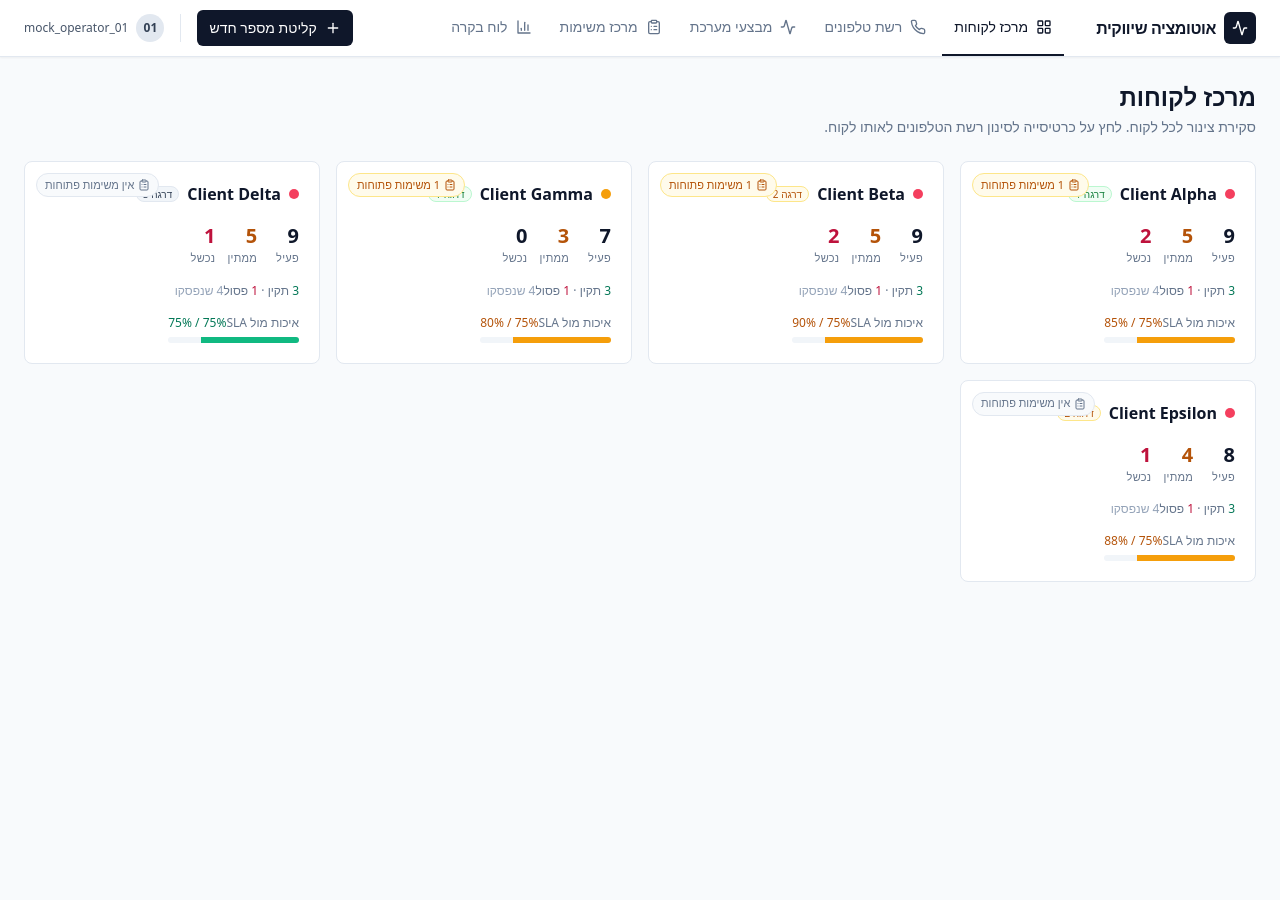
Test: Phase E1-D — file-upload tab › renders dropzone + template-download button
Click the button "קליטת מספר חדש" at (275, 28), box [197,10,353,46]
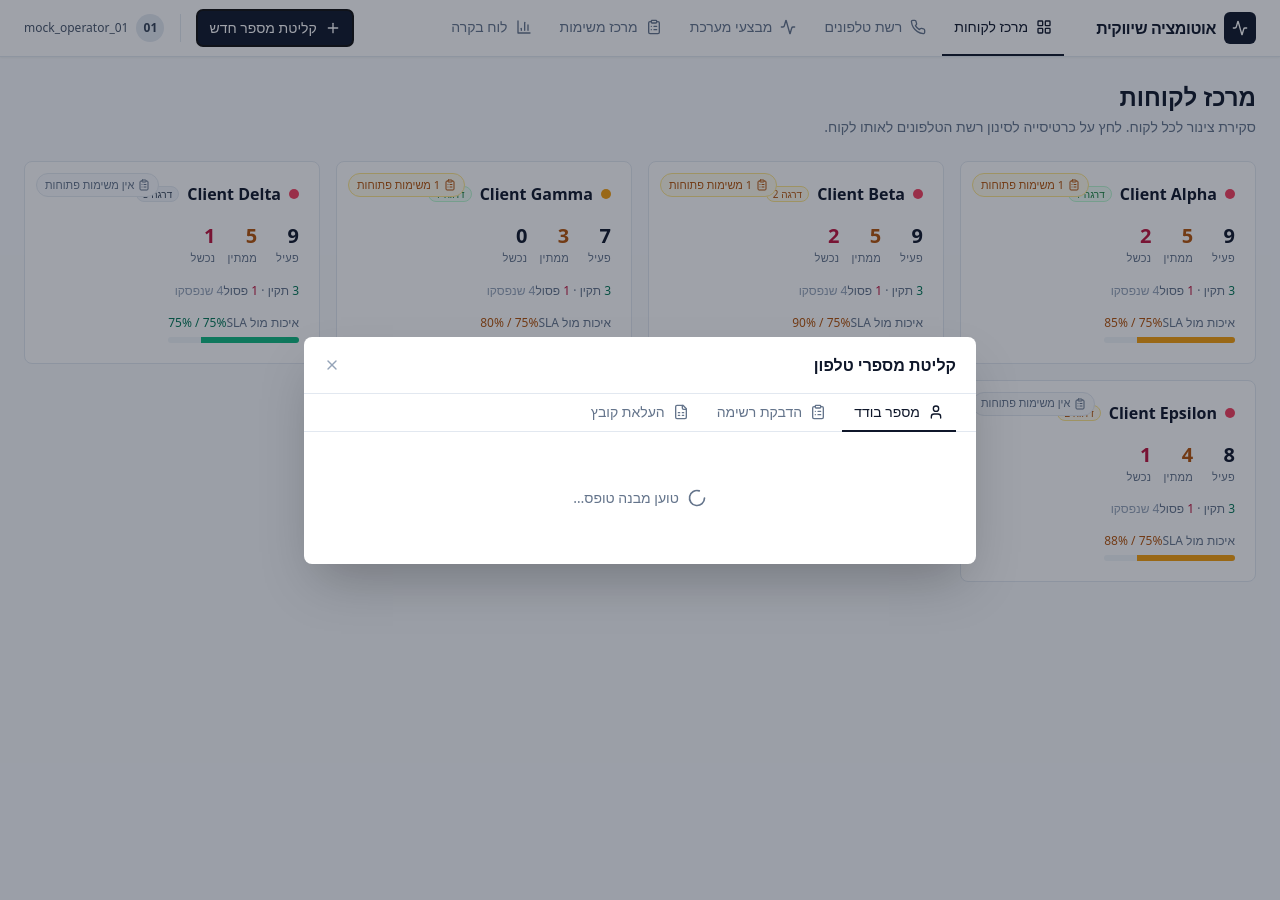
Click the tab "העלאת קובץ" at (640, 412), box [579,394,701,432]
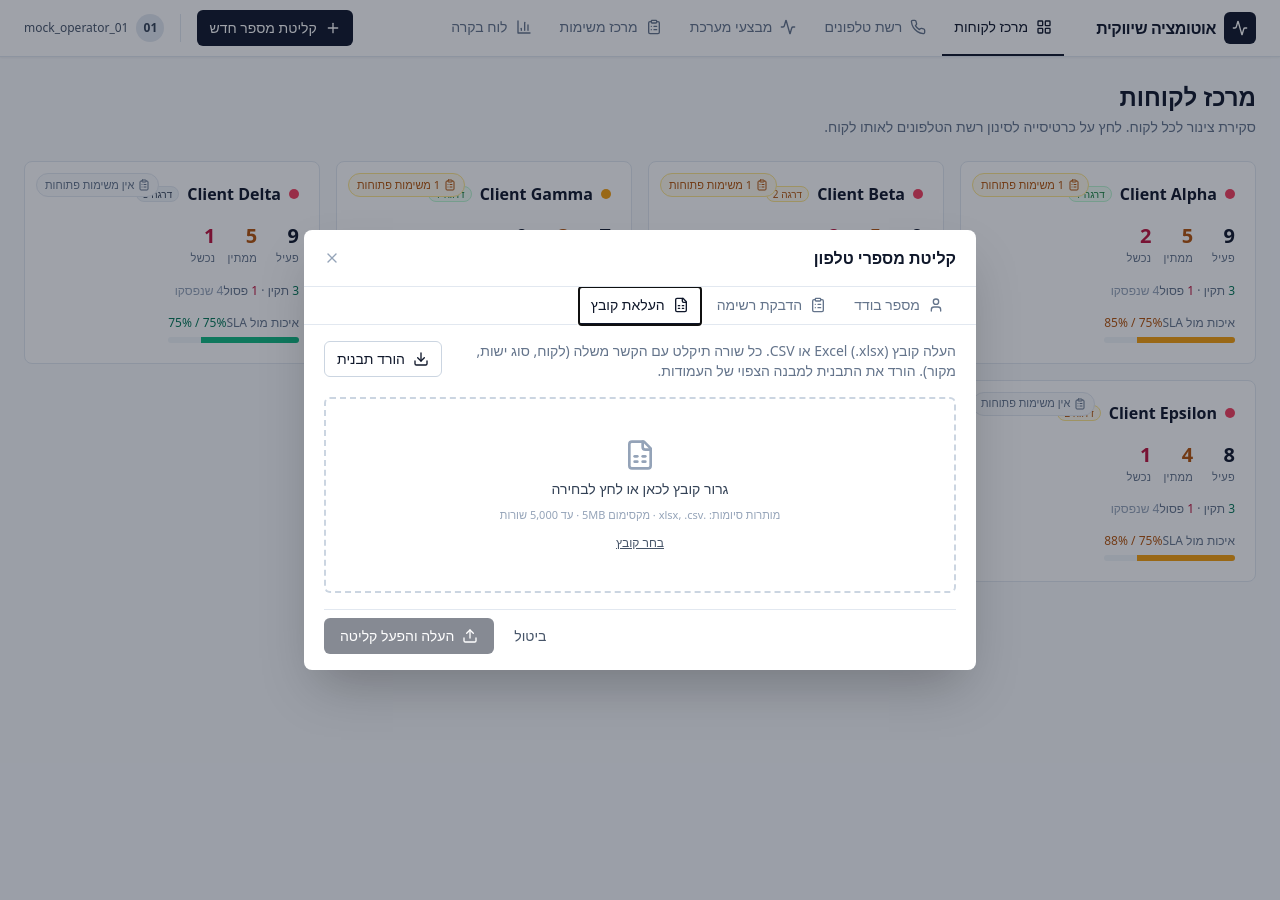
Expected: the button with test id "bulk-file-dropzone" is shown, [324,397,956,593]
Expected: the button "הורד תבנית" is shown, [324,341,442,377]
Expected: the button "העלה והפעל קליטה" is disabled, [324,618,494,654]
